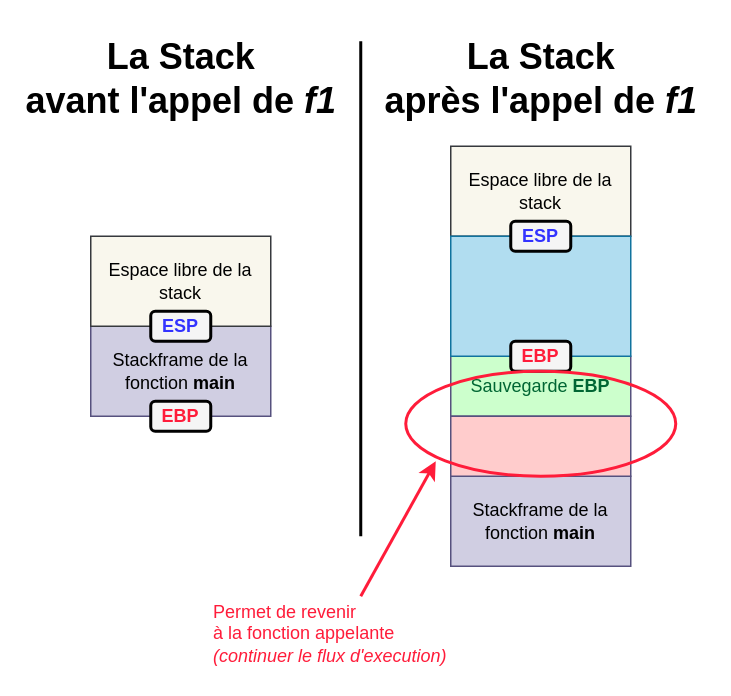
The diagram is 731 pixels wide and 696 high, and some of its shapes have lost their labels. Here are the shapes that lost their labels. From the top down, the centre of each, then its label:
At pixel 540 295: "Stackframe de la fonction f1 (buffer[8])".
At pixel 540 445: "Sauvegarde EIP".
